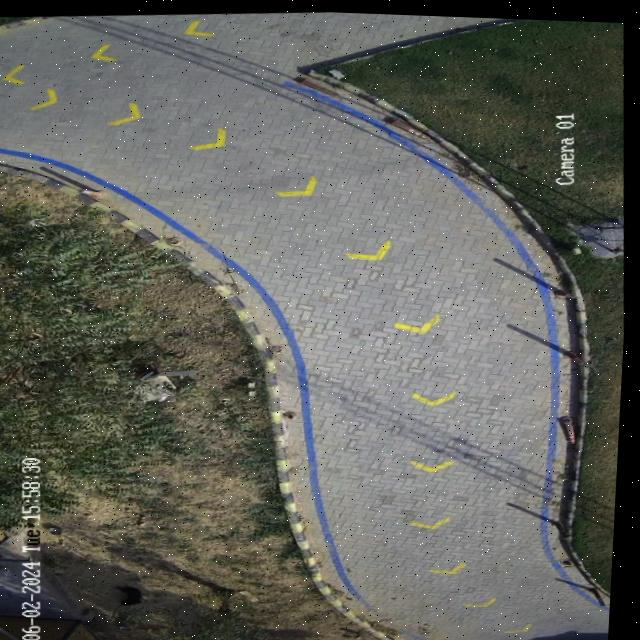No Car: (0, 9, 627, 640)
